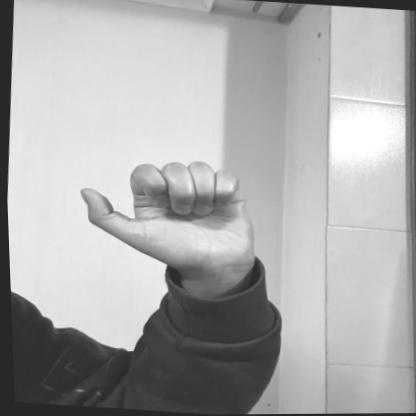E: (66, 149, 264, 274)
